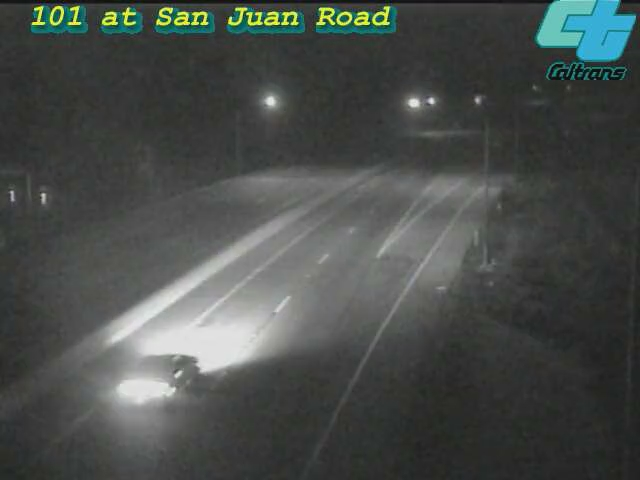vehicle: (108, 316, 218, 426)
